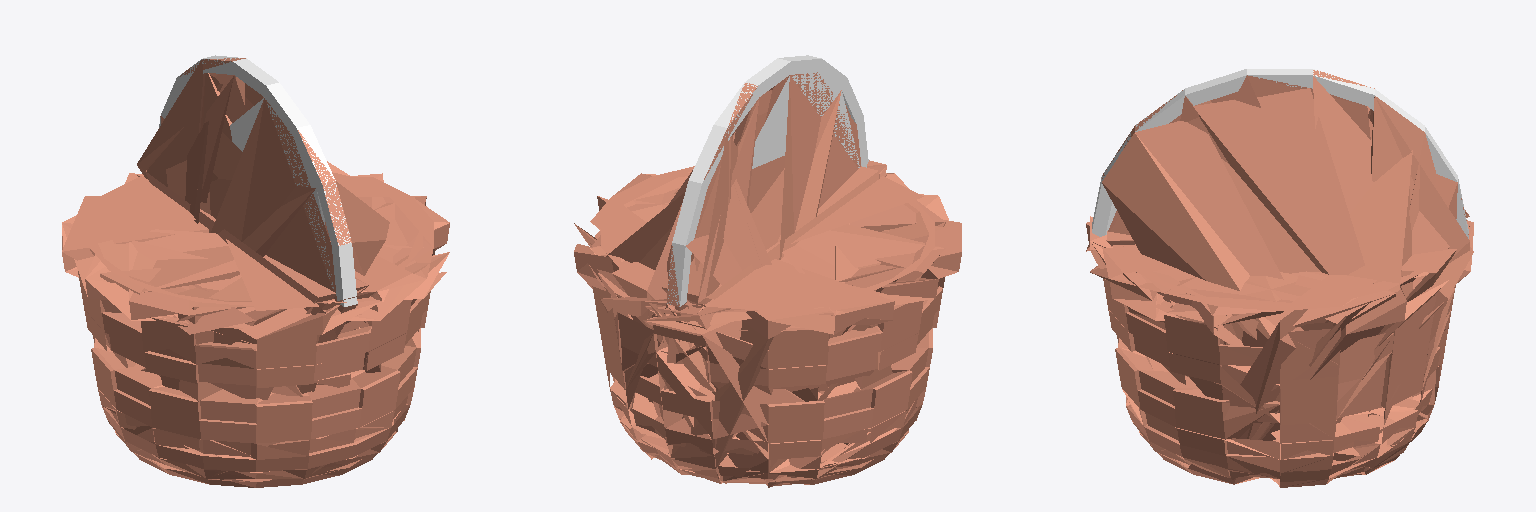
Rendered from Basket Kopie.obj.
The picture shows the model from 3 angles: view 1: azimuth 30°, elevation 25°; view 2: azimuth 150°, elevation 25°; view 3: azimuth 270°, elevation 25°; orthographic projection.
Parts seen in each view (by area): view 1: Cylinder001, Cylinder002, Box001; view 2: Cylinder001, Cylinder002, Box001; view 3: Cylinder001, Cylinder002.
Part boxes in pixels (x1,y1,x2,y2): Cylinder001: (62,58,449,487); Cylinder002: (159,55,357,306); Box001: (230,97,333,288); Cylinder001: (574,72,961,487); Cylinder002: (667,55,868,306); Box001: (752,72,859,168); Cylinder001: (1086,70,1473,487); Cylinder002: (1092,69,1468,238).
Size of the model in its own units: 112477 by 115707 by 110768.